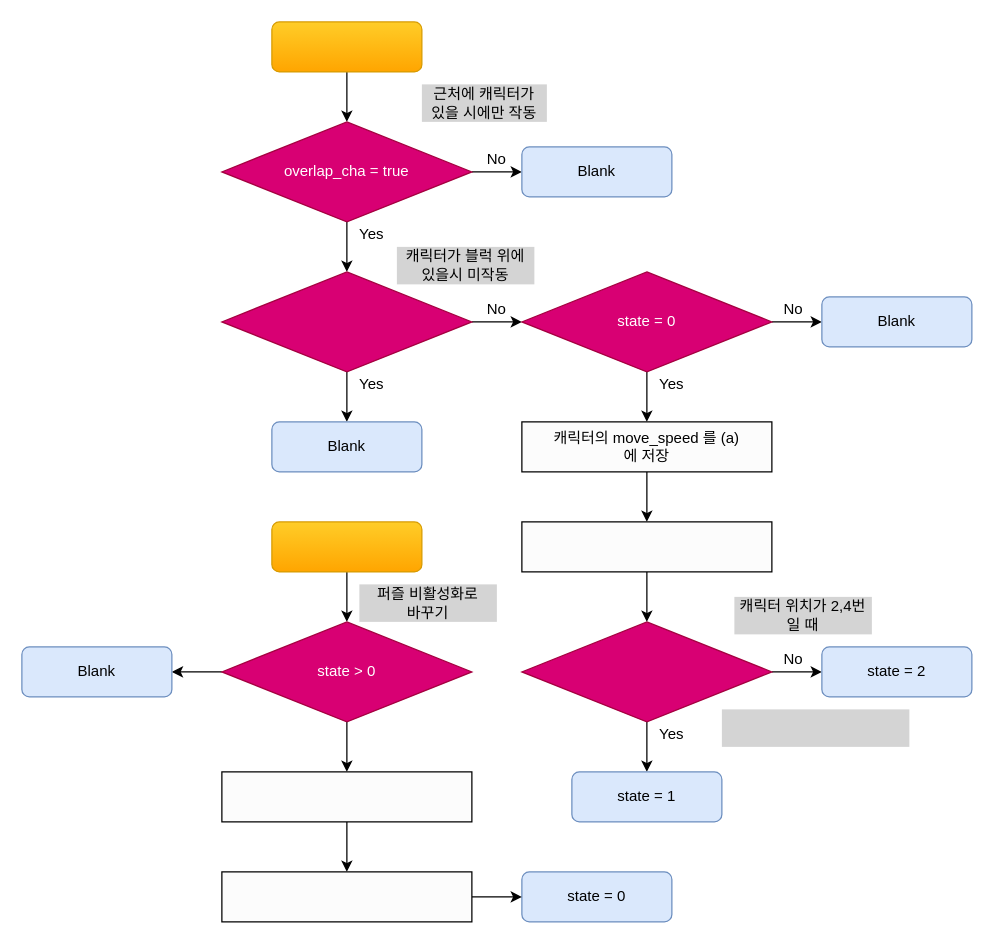
The diagram is 994 pixels wide and 944 high, and some of its shapes have lost their labels. Each missing label, with the centre of its shape:
"on_the_block = true" belongs at point (346, 321).
"State 변수로 상하이동, 좌우이동, 비활성화 구분" belongs at point (815, 727).
"X 입력" belongs at point (346, 46).
"X 입력 해제" belongs at point (346, 546).
"비활성화된 키보드 방향키 입력 (상하좌우) 재활성화" belongs at point (346, 896).
"캐릭터의 move_speed = (a)" belongs at point (346, 796).
"캐릭터의 move_speed = movableblock의 move_speed" belongs at point (646, 546).
"캐릭터의 위치 = 1 or 3" belongs at point (646, 671).
